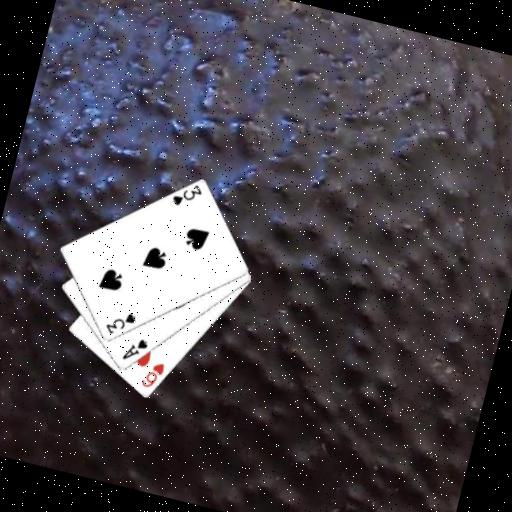3S: (101, 305, 139, 341), (167, 177, 205, 213)
6H: (138, 357, 168, 393)
AS: (118, 332, 151, 367)
